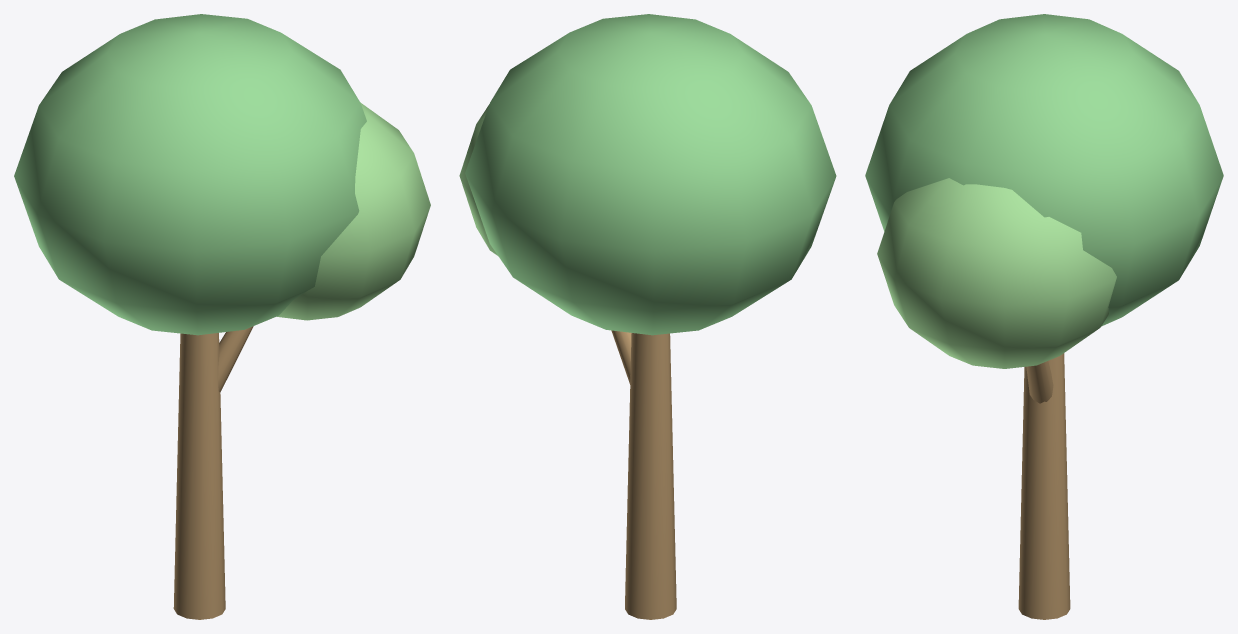
Rendered from tree_sapling_summer.glb.
3 renders of one model, left to right at view 1: azimuth 30°, elevation 25°; view 2: azimuth 150°, elevation 25°; view 3: azimuth 270°, elevation 25°, orthographic.
Bounding box in the file's own units: 1.03 × 1.59 × 0.9.
